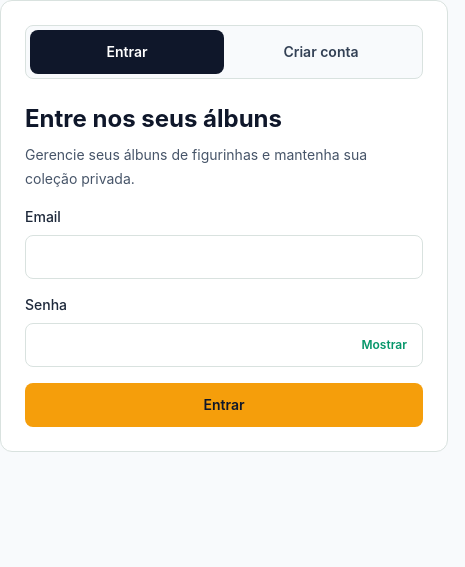
Test: AuthForm › shows validation messages before submitting login
Click the button "Entrar" below "Senha" at (224, 405), box [25,383,423,427]
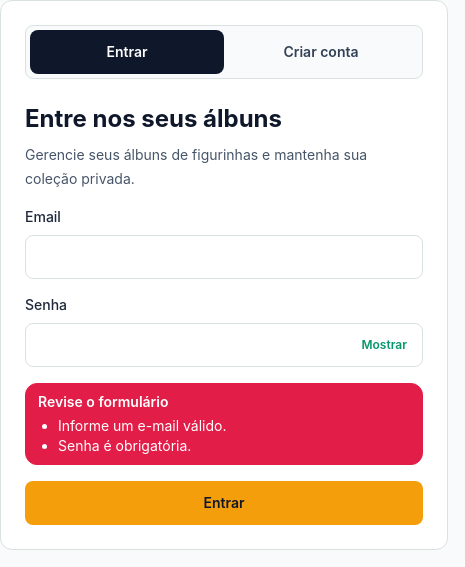
Expected: the list item "Informe um e-mail válido." is shown, [58,417,226,434]
Expected: the list item "Senha é obrigatória." is shown, [58,437,191,454]
